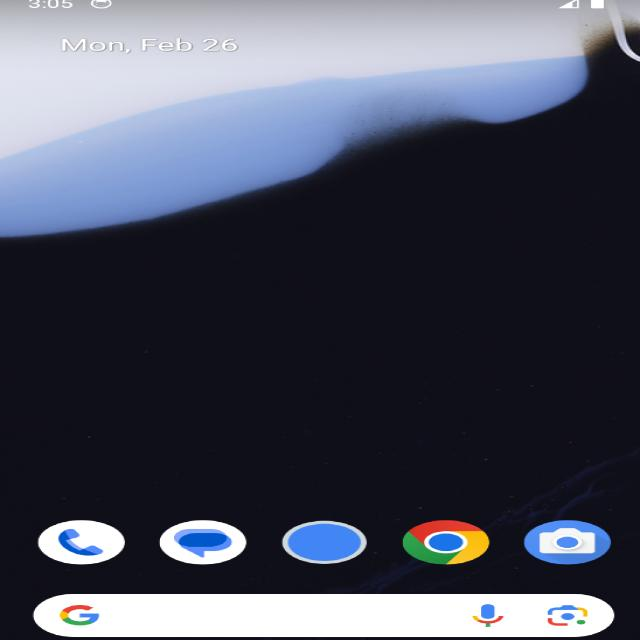Icon: (37, 520, 125, 564), (403, 520, 491, 564), (162, 521, 243, 564), (525, 521, 609, 562), (285, 521, 368, 562), (538, 598, 593, 628), (464, 601, 509, 630)
SearchBar: (34, 594, 614, 638)
